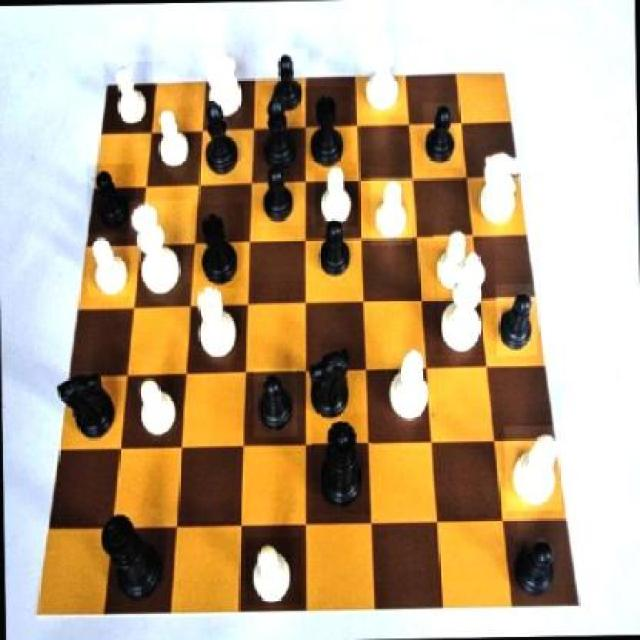bishop: (194, 92, 250, 183), (257, 86, 301, 177)
black-bishop: (95, 509, 168, 608)
black-king: (48, 363, 120, 445), (302, 343, 361, 423)
black-knight: (517, 522, 566, 602), (311, 212, 357, 286), (88, 163, 137, 231), (254, 368, 298, 438), (496, 284, 536, 358), (264, 48, 308, 112), (257, 163, 299, 225), (423, 102, 460, 168)
black-pawn: (311, 414, 373, 517)
black-queen: (193, 205, 244, 289), (304, 86, 352, 171)
black-rook: (504, 424, 562, 510), (384, 342, 436, 426)
white-bishop: (432, 237, 496, 355)
white-king: (197, 46, 254, 123)
white-knight: (246, 537, 302, 606), (132, 369, 180, 446), (104, 63, 154, 131), (434, 220, 474, 297), (369, 176, 412, 246), (86, 234, 131, 297), (316, 163, 358, 227), (156, 106, 194, 169)
white-pawn: (129, 198, 194, 306)
white-queen: (191, 280, 241, 367), (360, 32, 409, 117)
